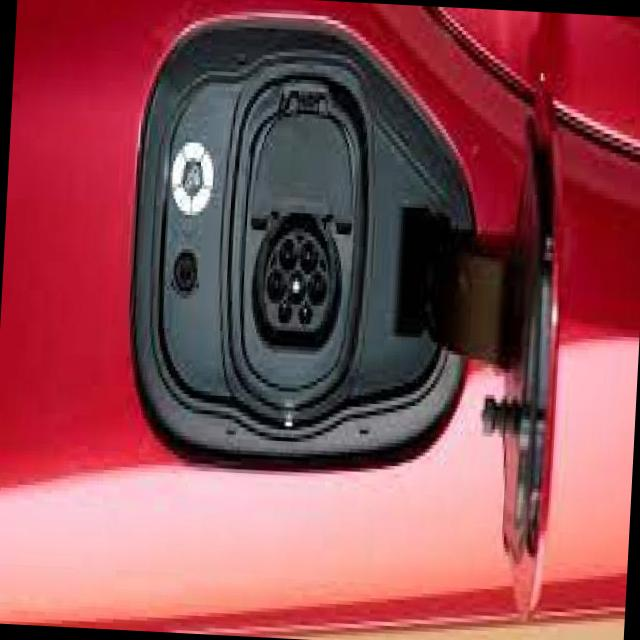inlet: (263, 226, 329, 332)
inlet-above-left: (297, 302, 312, 324)
inlet-above-right: (277, 302, 292, 322)
inlet-below-left: (299, 240, 318, 273)
inlet-below-right: (278, 240, 296, 271)
inlet-center: (287, 269, 304, 303)
inlet-center-left: (308, 271, 325, 304)
inlet-center-right: (266, 268, 284, 304)
